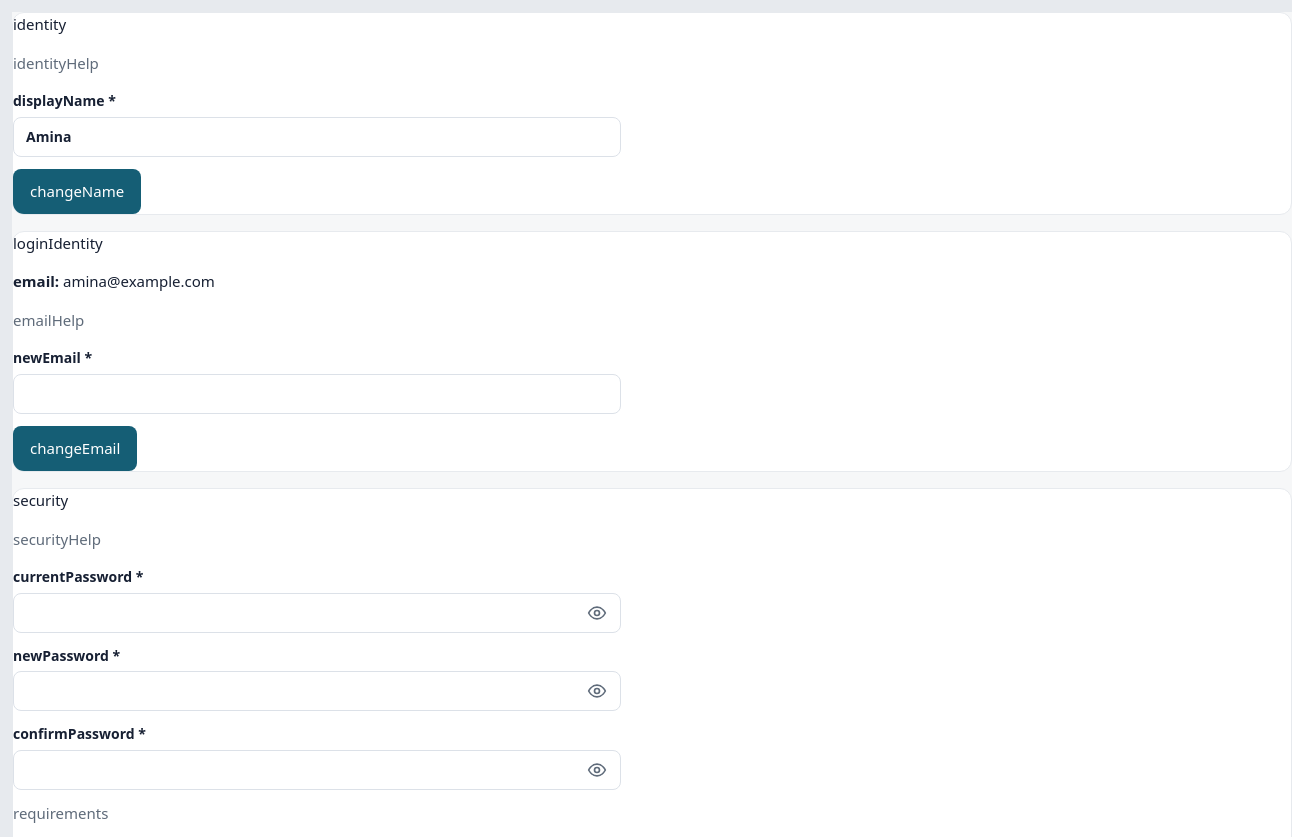
one personal My account screen › changes only the authenticated profile name and refreshes on success
This screenshot has width=1292, height=837.
Step 1. Replace the text in the field labelled "displayName *" with "Amina B." → (317,137), box x1=13 y1=117 x2=621 y2=157
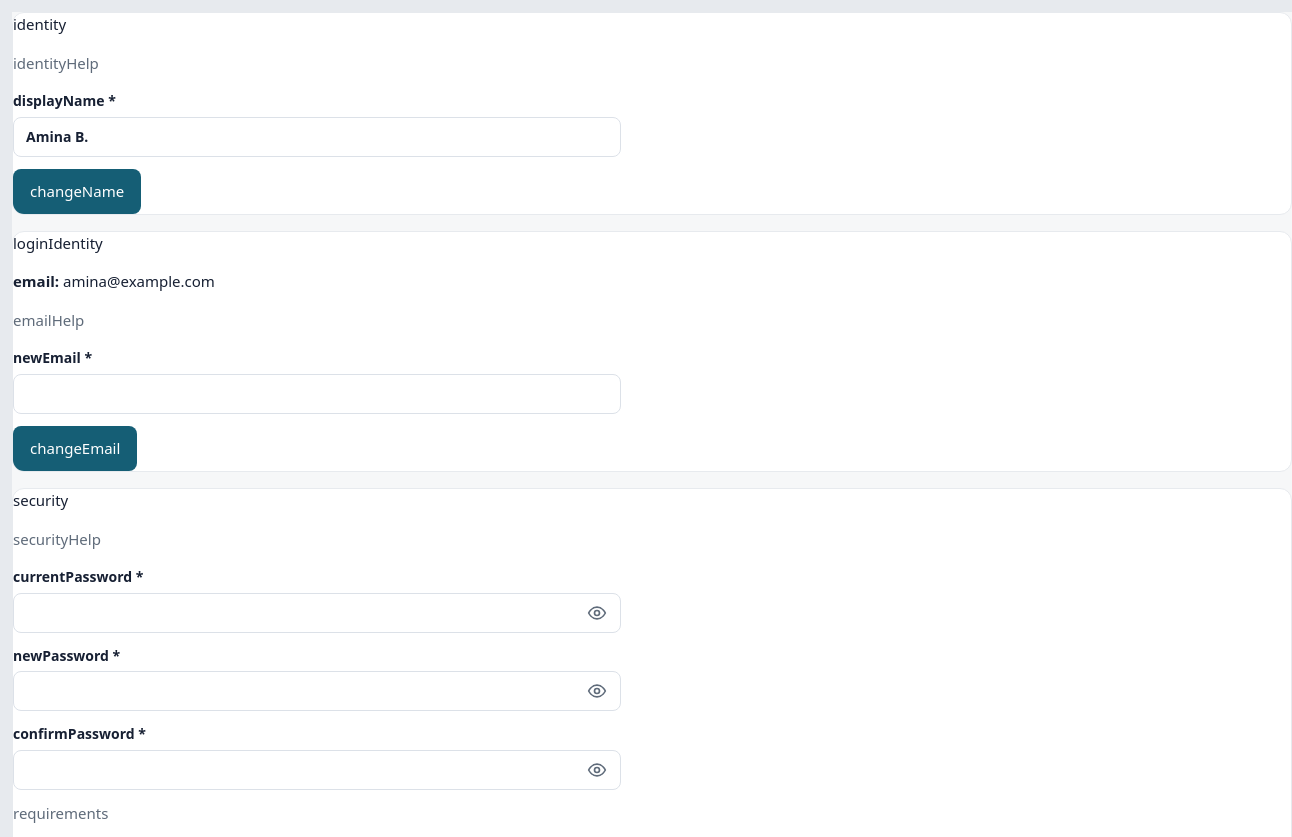
Step 2. Click the button "changeName" → (77,191), box x1=13 y1=169 x2=141 y2=214
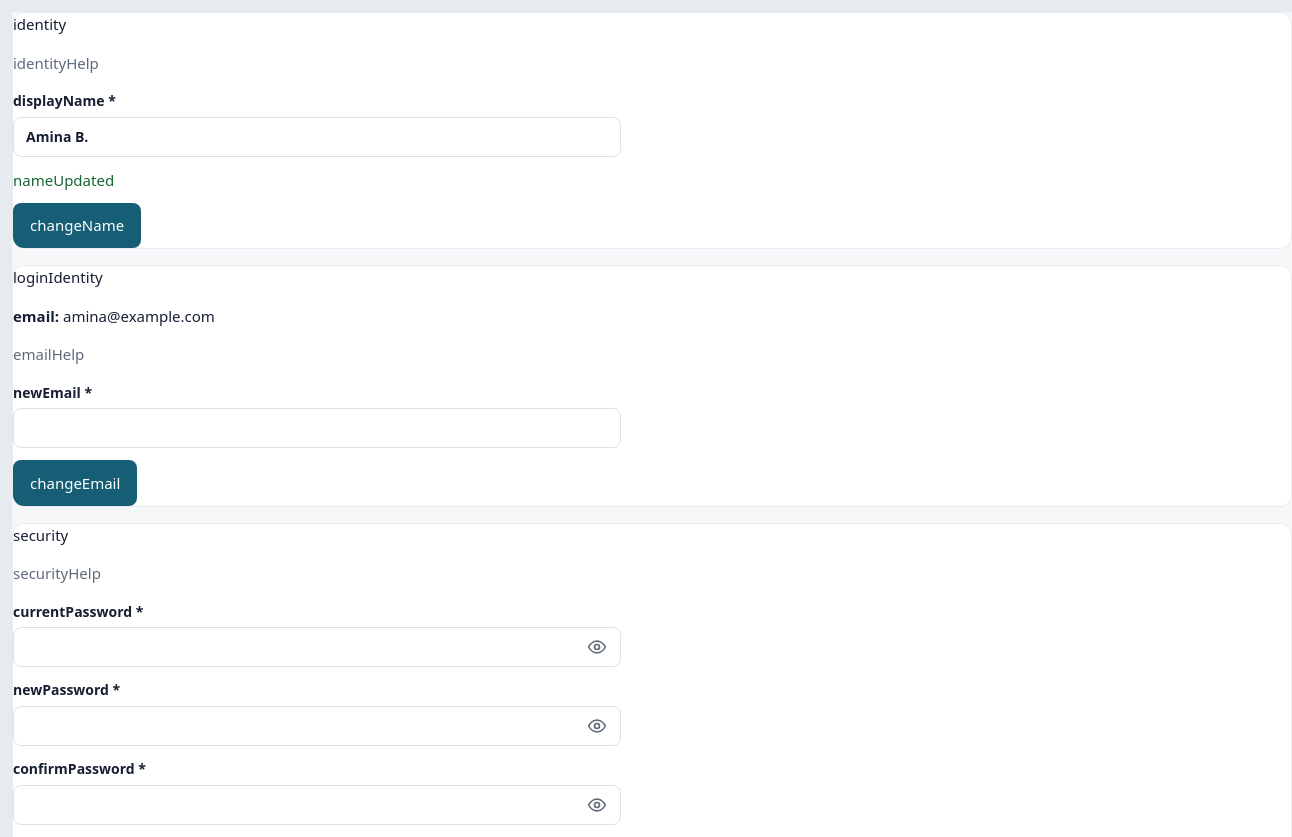
Check: the message reads "nameUpdated", box x1=13 y1=170 x2=114 y2=190
